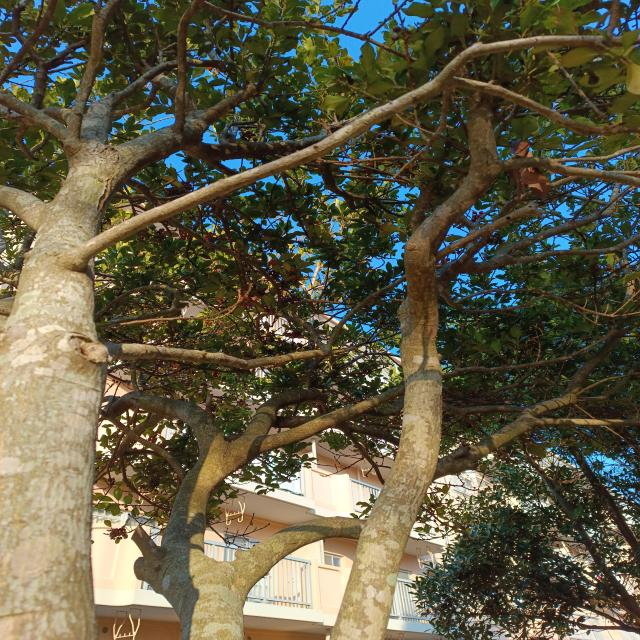Branch: (0, 87, 68, 145), (182, 134, 329, 159), (204, 83, 261, 123), (0, 185, 46, 233)
Twig: (64, 33, 638, 263), (172, 0, 418, 129), (12, 6, 89, 110), (69, 0, 122, 140), (96, 59, 229, 111), (105, 341, 333, 369), (0, 0, 58, 85)
